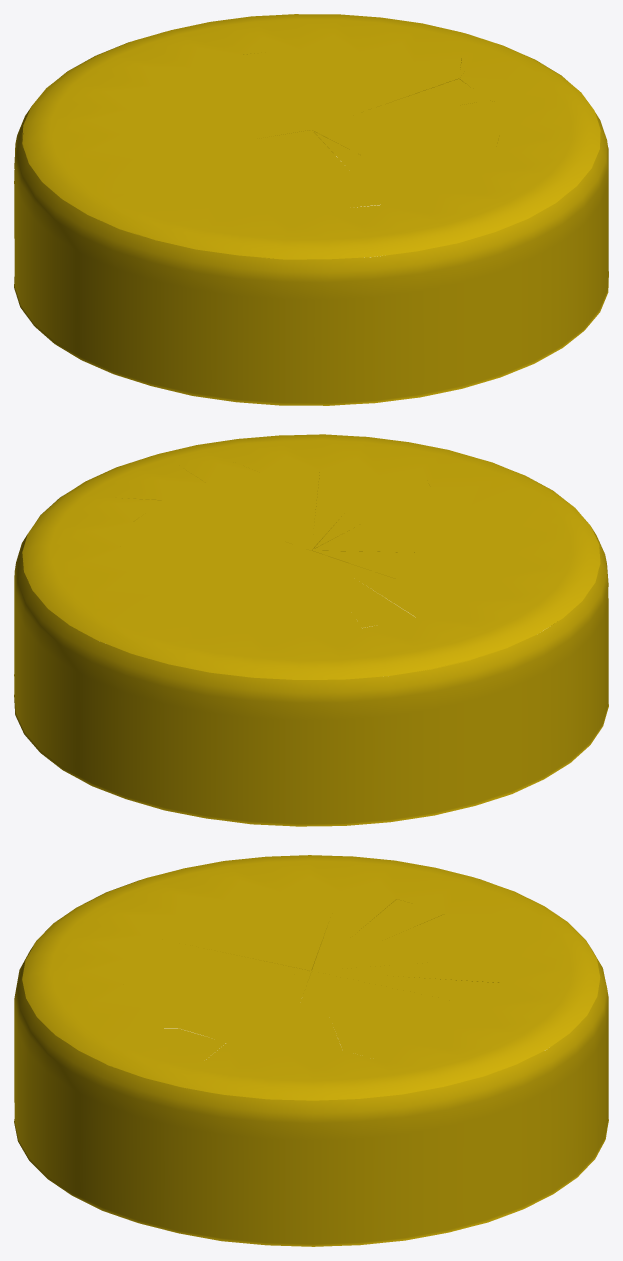
Rendered from original_6.obj.
The picture shows the model from 3 angles, top to bottom: view 1: azimuth 30°, elevation 25°; view 2: azimuth 150°, elevation 25°; view 3: azimuth 270°, elevation 25°; orthographic projection.
Parts seen in each view (by area): view 1: group_1/ID106#ID106; view 2: group_1/ID106#ID106; view 3: group_1/ID106#ID106.
Part boxes in pixels (x1,y1,x2,y2): group_1/ID106#ID106: (14, 14, 608, 405); group_1/ID106#ID106: (14, 434, 608, 826); group_1/ID106#ID106: (14, 855, 608, 1246).
Size of the model in its own units: 0.2879 by 0.0805 by 0.2878.
